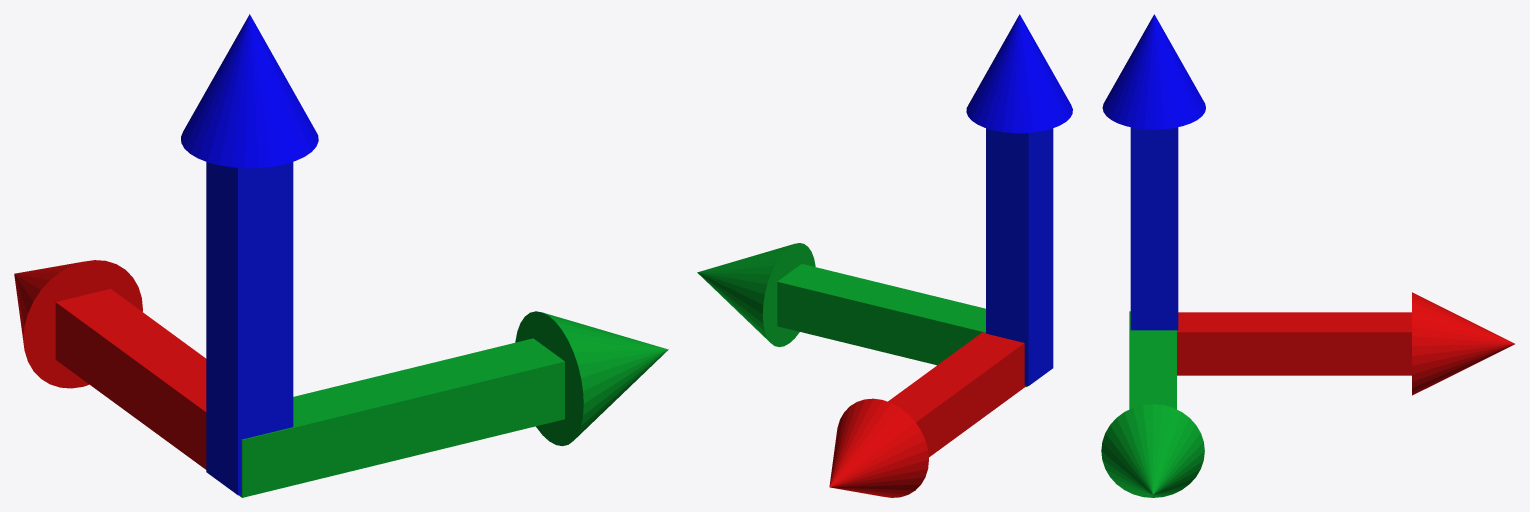
The model's file is 3Axis.fbx.
3 renders of one model, left to right at view 1: azimuth 30°, elevation 25°; view 2: azimuth 150°, elevation 25°; view 3: azimuth 270°, elevation 25°, orthographic. The views are drawn at different scales.
Parts seen in each view (by area): view 1: Head.002, Head.001, Head, Z, Y, X; view 2: Head.001, Head.002, Head, X, Z, Y; view 3: Head, Head.001, Y, Z, X, Head.002.
Boxes of the visible parts, <box> form: Head.002: <box>239,338,564,497</box>; Head.001: <box>206,162,293,495</box>; Head: <box>55,288,206,469</box>; Z: <box>181,14,318,168</box>; Y: <box>515,311,668,446</box>; X: <box>14,260,142,388</box>; Head.001: <box>986,128,1053,385</box>; Head.002: <box>777,264,1027,386</box>; Head: <box>888,332,1025,457</box>; X: <box>829,398,928,497</box>; Z: <box>966,14,1072,133</box>; Y: <box>697,243,815,347</box>; Head: <box>1177,312,1411,375</box>; Head.001: <box>1130,127,1178,330</box>; Y: <box>1101,404,1204,497</box>; Z: <box>1102,14,1205,129</box>; X: <box>1412,292,1514,395</box>; Head.002: <box>1129,311,1176,409</box>.
Bounding box in the file's own units: 1738 × 1736 × 1735.
